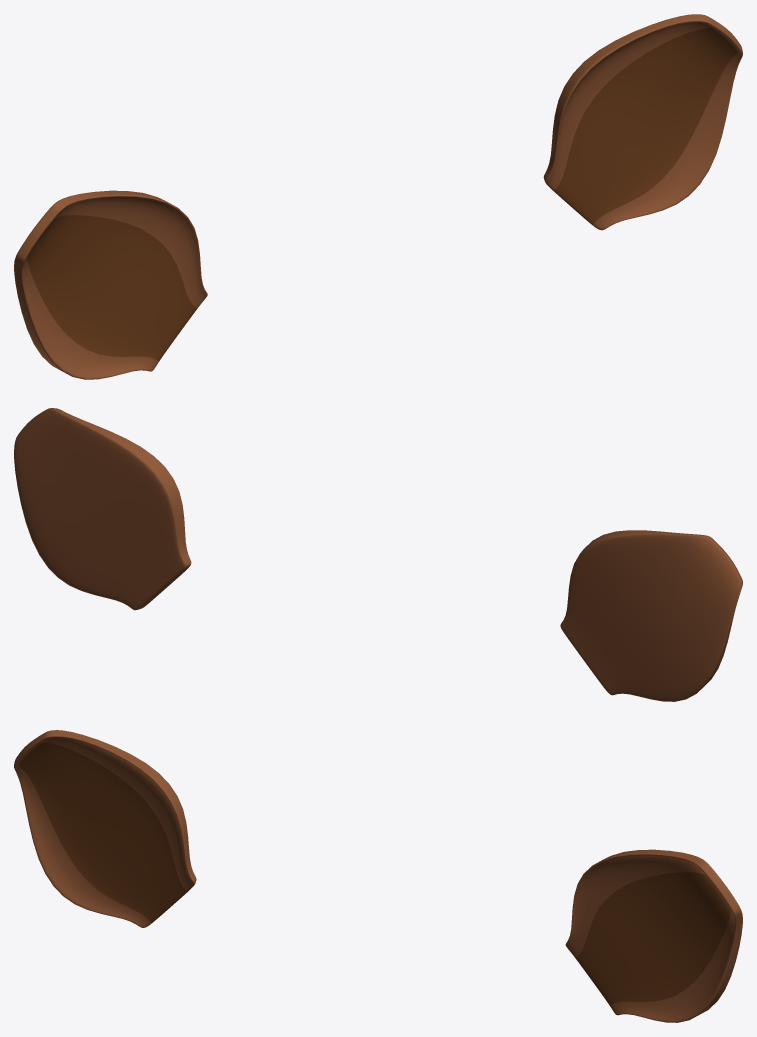
The model's file is reindeer-ears.glb.
The picture shows the model from 3 angles, top to bottom: view 1: azimuth 30°, elevation 25°; view 2: azimuth 150°, elevation 25°; view 3: azimuth 330°, elevation 25°; orthographic projection. The views are drawn at different scales.
Visible parts, largest first — view 1: reindeer ear left, reindeer ear right; view 2: reindeer ear left, reindeer ear right; view 3: reindeer ear right, reindeer ear left.
Part boxes in pixels (box(x1,y1,x2,y2)): reindeer ear left: box(543, 14, 742, 230); reindeer ear right: box(14, 190, 207, 379); reindeer ear left: box(14, 408, 191, 610); reindeer ear right: box(560, 530, 742, 701); reindeer ear right: box(14, 730, 196, 927); reindeer ear left: box(565, 849, 742, 1022).
Size of the model in its own units: 8.59 by 2.11 by 0.956.
